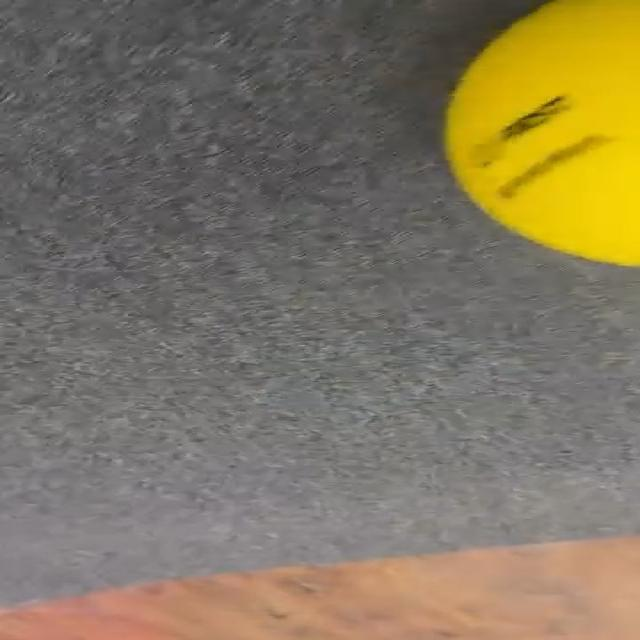Fuels: (449, 3, 640, 267)
